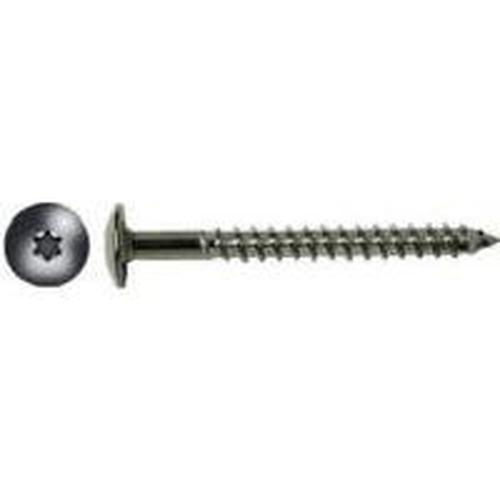Tornillo: (102, 201, 500, 288), (2, 199, 94, 289)
